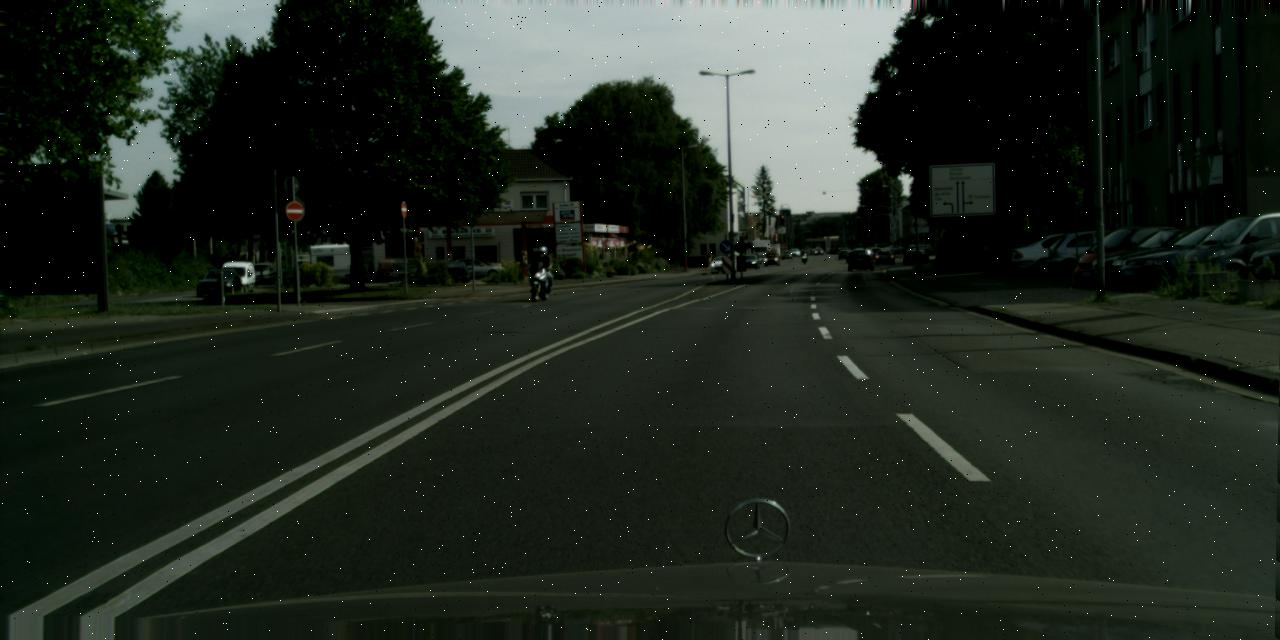ped: (1103, 216, 1122, 262), (533, 246, 552, 292), (706, 250, 712, 264), (802, 251, 806, 261)
